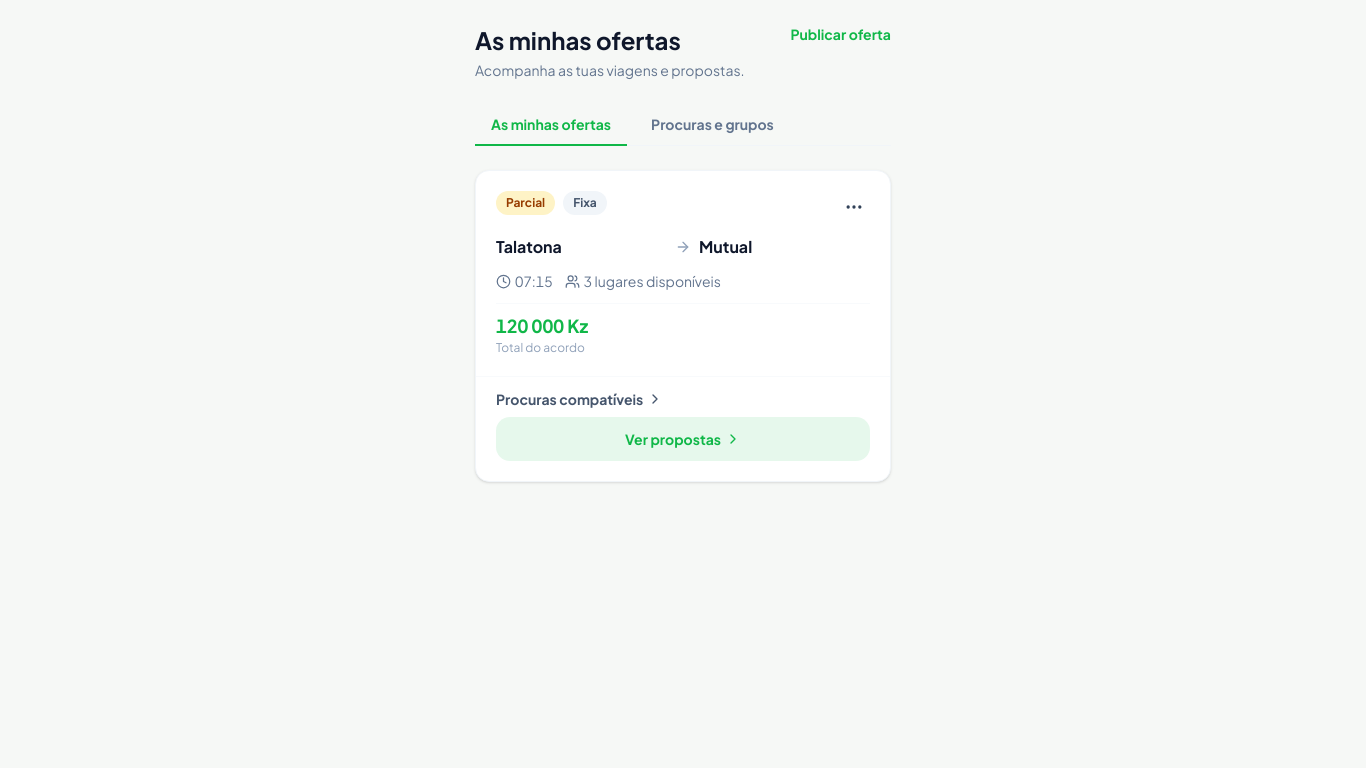
Scenario: DriverDashboard — marketplace › card vivo: tap no card abre detalhe da oferta
Expected: the text "Talatona" is shown, [496, 236, 562, 257]
Click the button with aria-label "Ver detalhe da oferta" at (529, 246), box [476, 223, 890, 376]
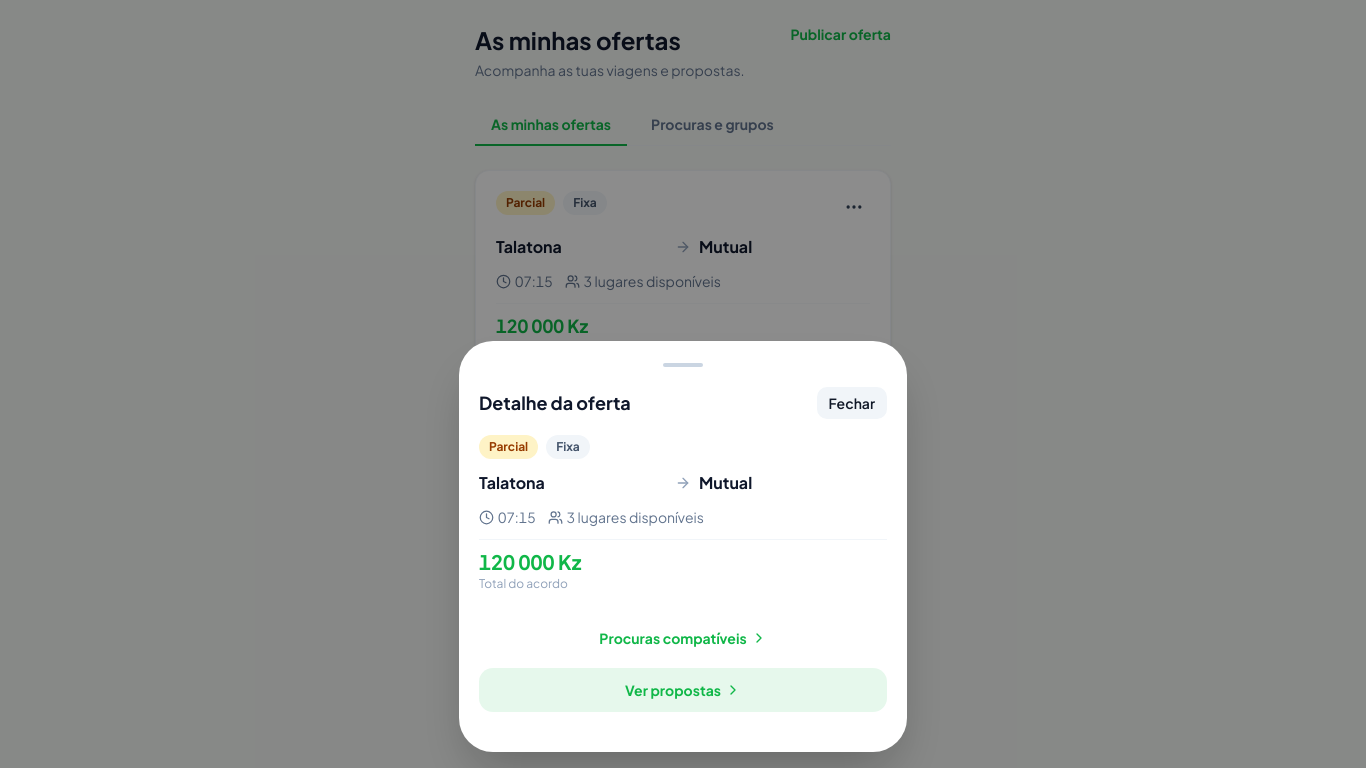
Expected: the element with test id "oferta-detail-sheet" is shown
Expected: the heading "Detalhe da oferta" is shown, [479, 389, 631, 417]
